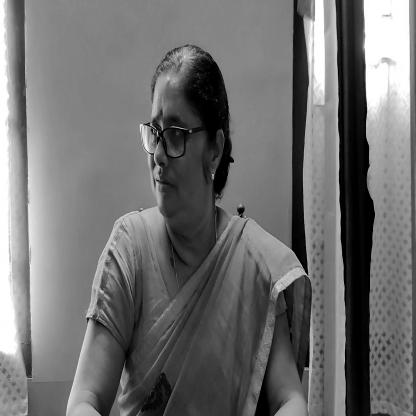Distracted: (134, 39, 232, 221)
